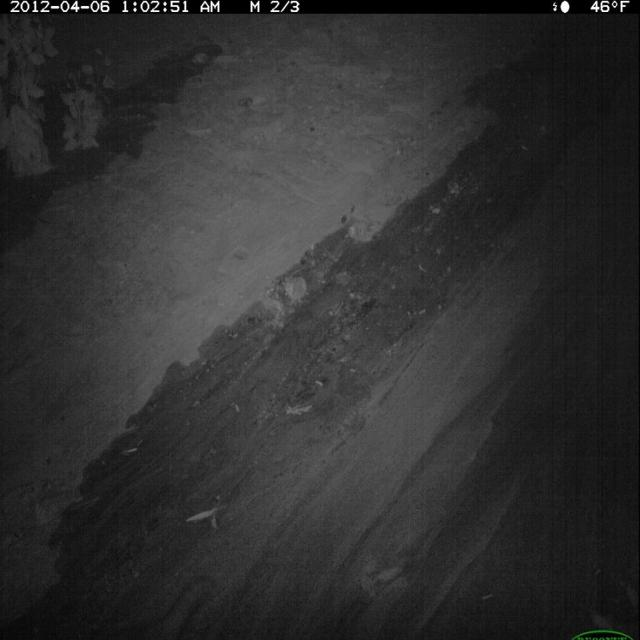raccoon: (129, 574, 215, 640)
